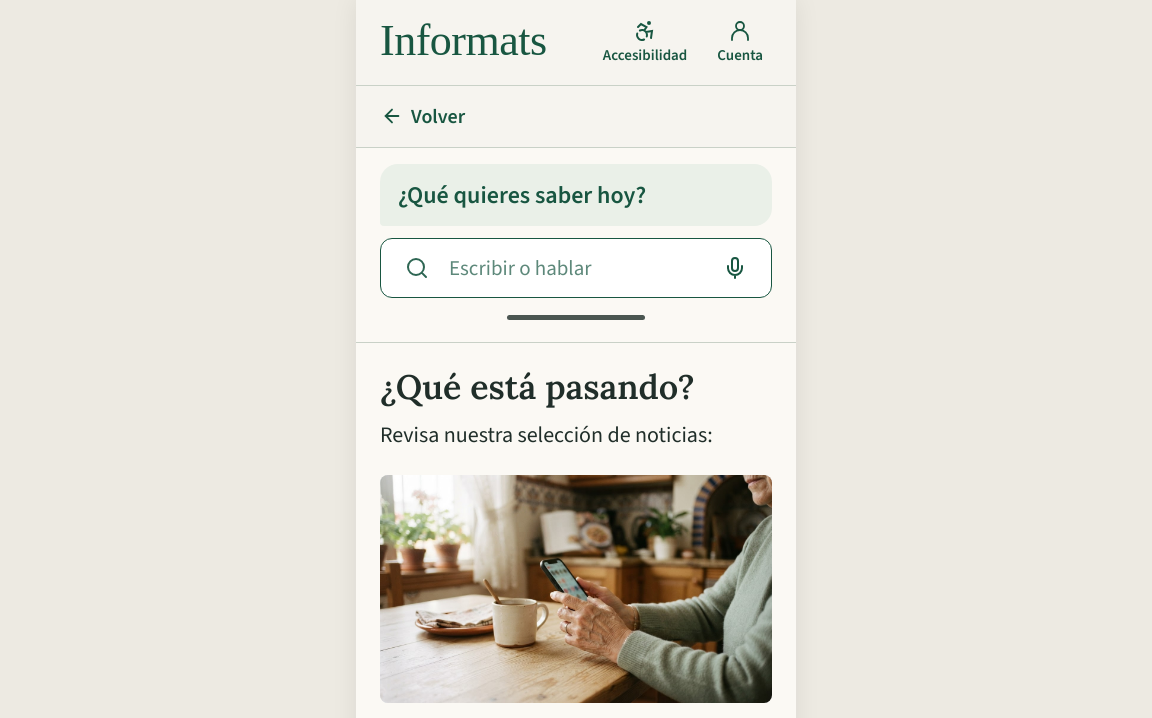
Test case: Informats - Pantalla «Inicio · Hoy, con claridad» › opens and closes account contextual preview dialog
The width and height of the screenshot is (1152, 718).
Click the button "Cuenta": (740, 41) top-left (708, 12), bottom-right (772, 70)
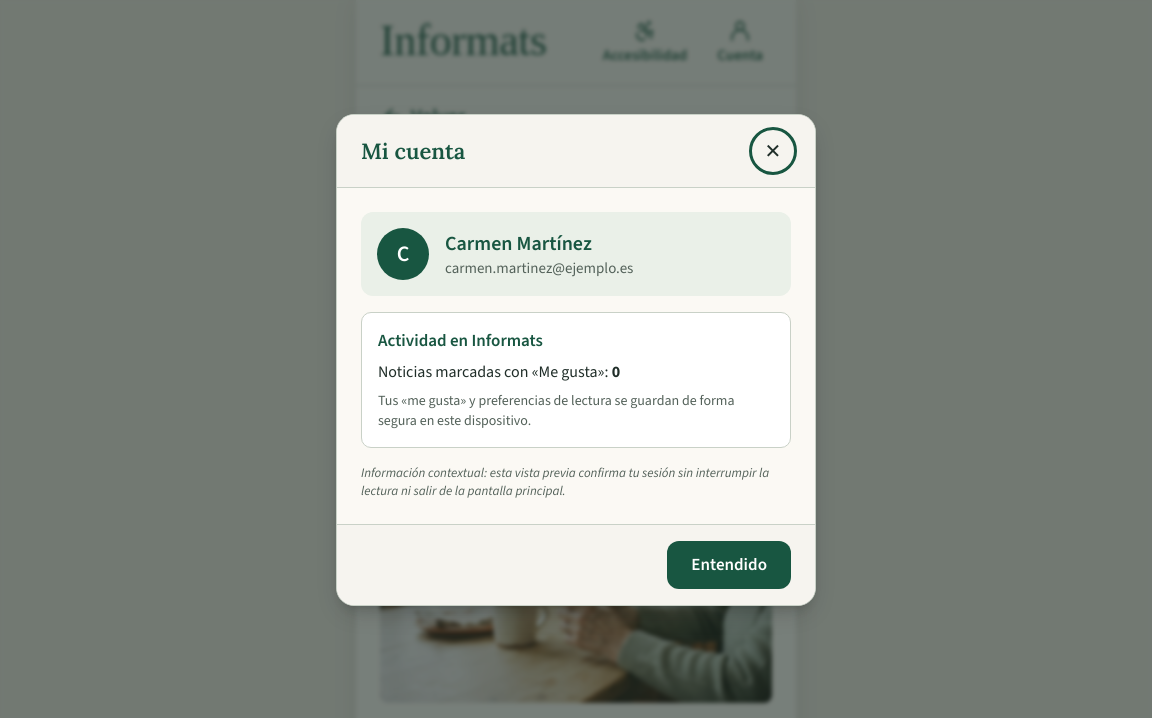
expect the dialog "Mi cuenta" is shown: met, box top-left (336, 114), bottom-right (816, 606)
expect the heading "Carmen Martínez" is shown: met, box top-left (445, 230), bottom-right (592, 257)
Click the button "Entendido": (729, 565) top-left (667, 541), bottom-right (791, 589)
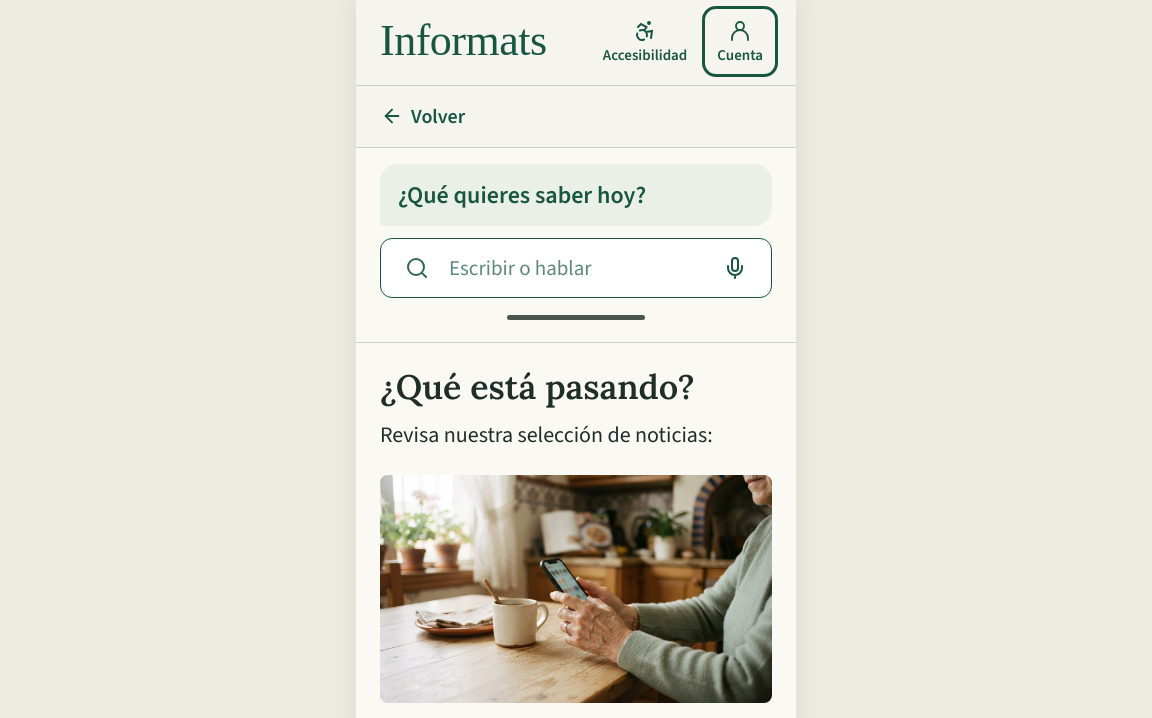
expect the dialog is gone: met
